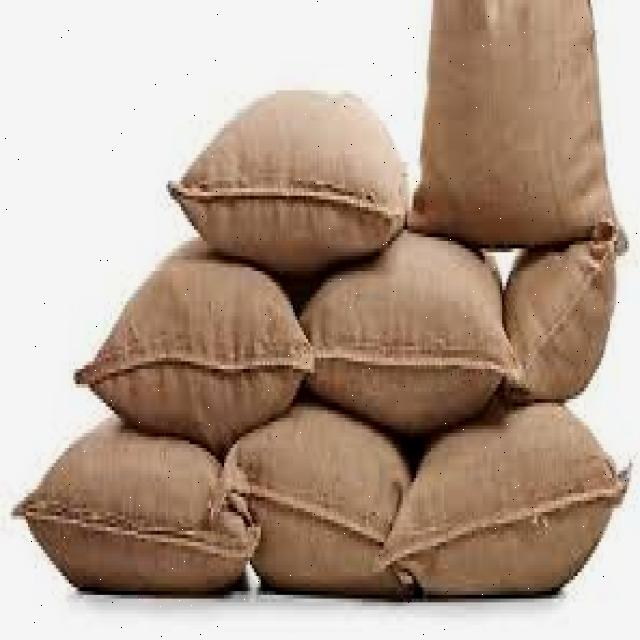sack: (411, 0, 640, 241), (382, 397, 627, 600), (72, 248, 308, 444), (166, 93, 404, 276), (304, 234, 517, 432), (24, 414, 256, 593), (225, 410, 414, 602), (501, 234, 627, 394)
